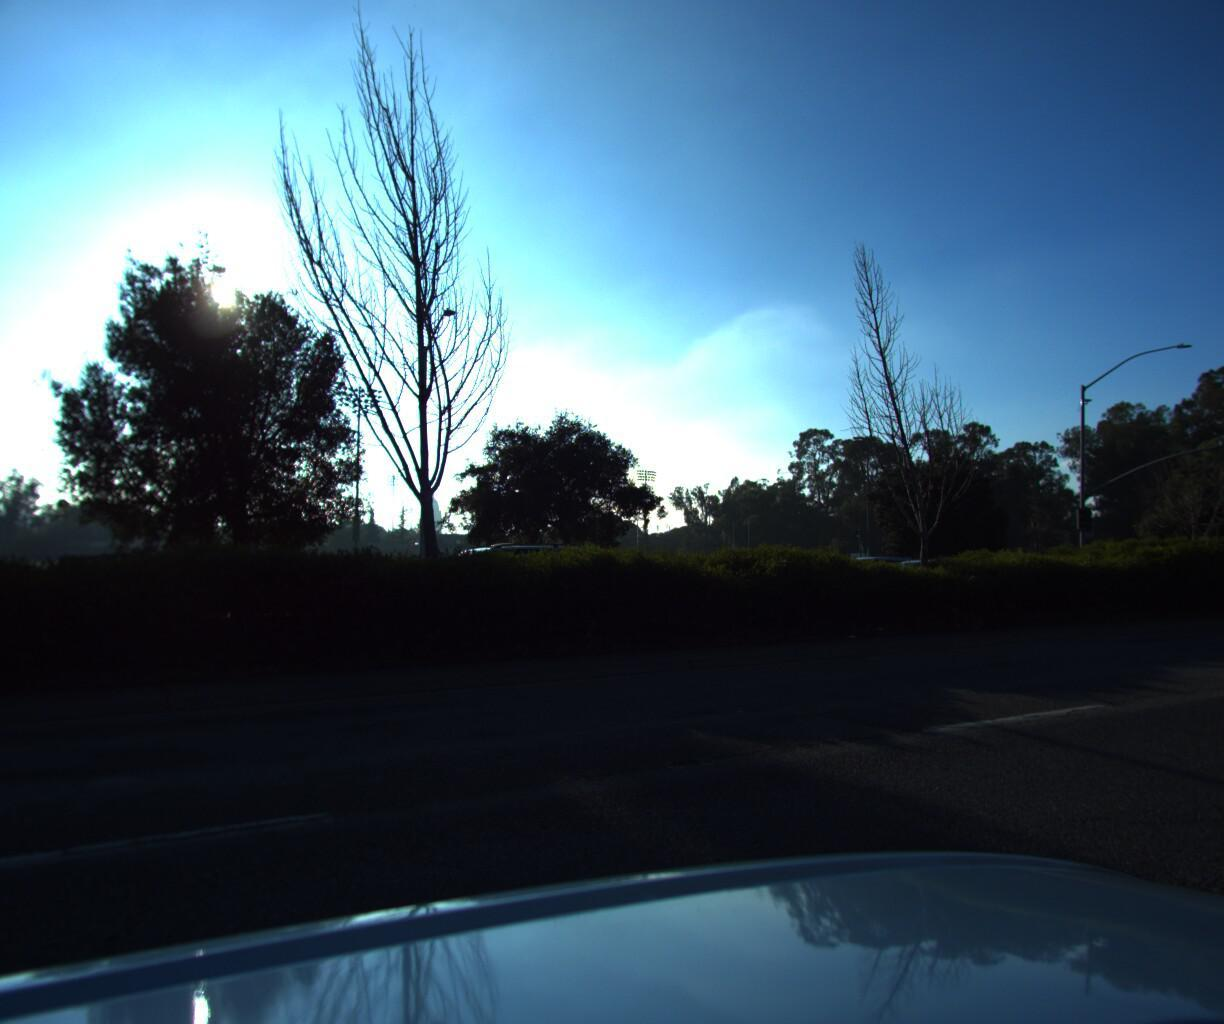car: (397, 525, 645, 626), (0, 547, 220, 631), (833, 554, 956, 598)
